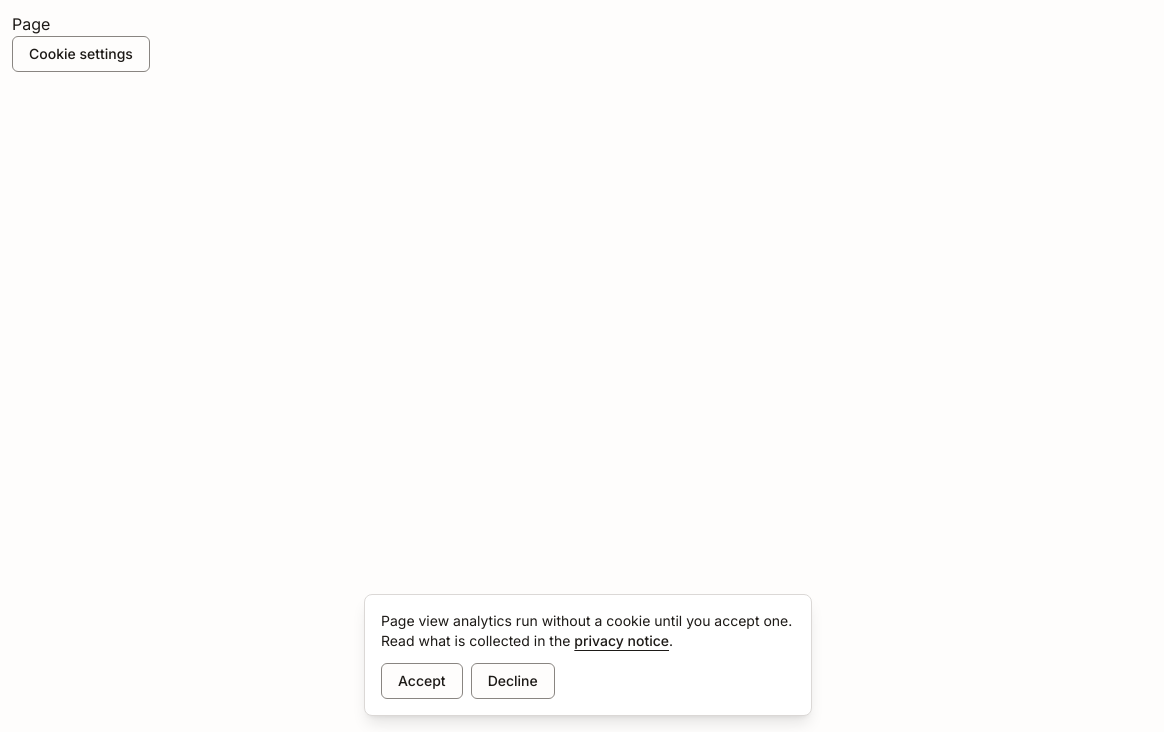
CookieBanner › stays put and shows the error when the action refuses
Click the button "Accept". click: [422, 681]
box: [381,663,463,699]
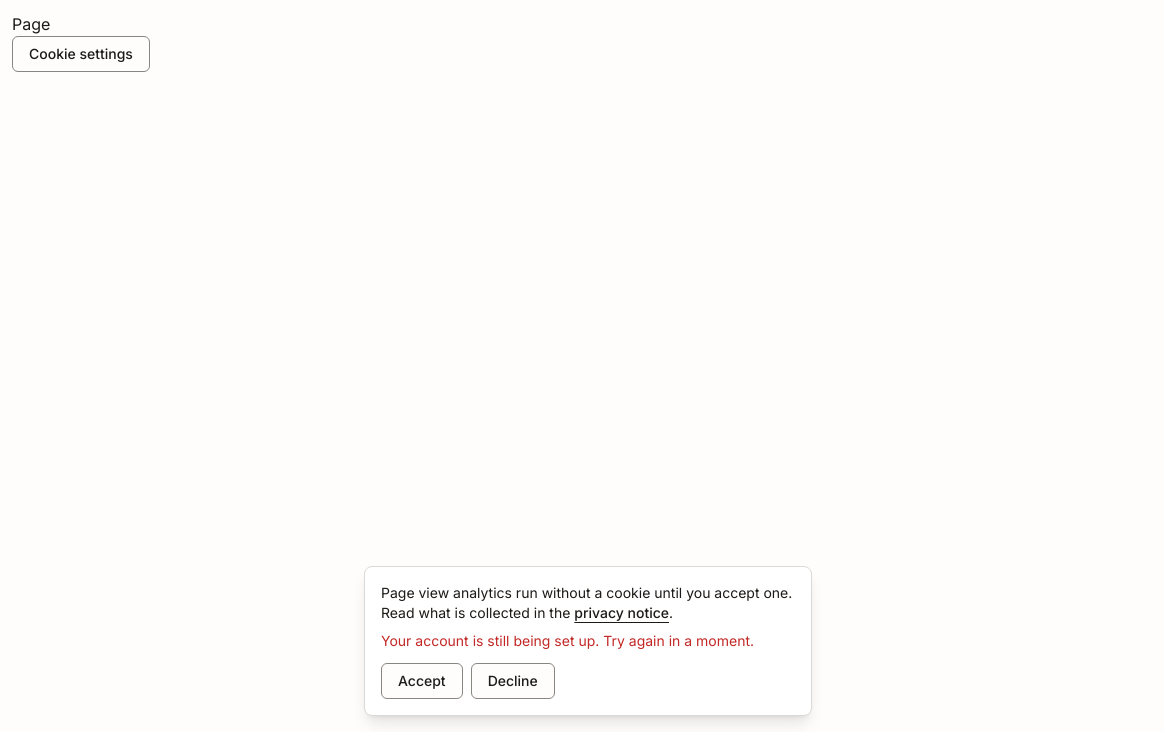
Expected: the element named "Cookie preferences" is shown, [364,566,812,716]
Expected: the message "Your account is still being set up. Try again in a moment." is shown, [381,631,795,651]
